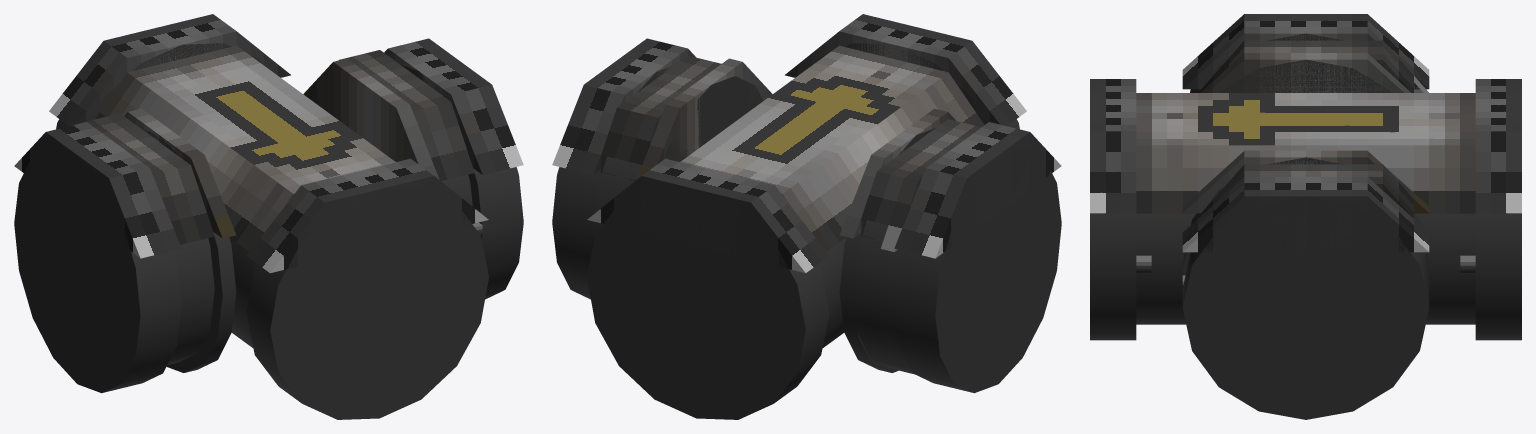
File: CMU3DDisposalXJunctionLoose.glb
3 views of the same model, side by side, from view 1: azimuth 30°, elevation 25°; view 2: azimuth 150°, elevation 25°; view 3: azimuth 270°, elevation 25° (orthographic). The views are drawn at different scales.
Visible parts, largest first — view 1: south construction coupling rim round core, west construction coupling rim round core, main barrel and south arrow source crown 1, main barrel and south arrow source crown 0, south construction coupling rim source crown 1, east construction coupling rim round core, west construction coupling rim source crown 1, west construction coupling rim source crown 2, east branch weld source crown 1, east construction coupling rim source crown 2, north construction coupling rim source crown 1, west branch barrel round core (+18 smaller); view 2: north construction coupling rim round core, west construction coupling rim round core, main barrel and south arrow source crown 1, main barrel and south arrow source crown 0, west construction coupling rim source crown 1, west branch barrel round core, north construction coupling rim source crown 1, east construction coupling rim round core, west construction coupling rim source crown 0, south construction coupling rim source crown 1, east construction coupling rim source crown 0, north construction coupling rim source crown 0 (+18 smaller); view 3: east construction coupling rim round core, main barrel and south arrow source crown 1, main barrel and south arrow source crown 2, main barrel and south arrow round core, east construction coupling rim source crown 1, north construction coupling rim round core, south construction coupling rim round core, west branch weld source crown 1, north construction coupling rim source crown 2, south construction coupling rim source crown 2, west branch weld round core, west construction coupling rim source crown 1 (+17 smaller).
Part boxes in pixels (<box>): south construction coupling rim round core: <box>246,187,488,419</box>; west construction coupling rim round core: <box>14,146,181,393</box>; main barrel and south arrow source crown 1: <box>127,45,395,193</box>; main barrel and south arrow source crown 0: <box>95,72,293,251</box>; south construction coupling rim source crown 1: <box>301,158,434,256</box>; east construction coupling rim round core: <box>400,64,523,299</box>; west construction coupling rim source crown 1: <box>45,122,149,233</box>; west construction coupling rim source crown 2: <box>109,168,181,258</box>; east branch weld source crown 1: <box>333,58,409,161</box>; east construction coupling rim source crown 2: <box>451,85,523,174</box>; north construction coupling rim source crown 1: <box>104,14,236,72</box>; west branch barrel round core: <box>167,238,214,364</box>; north construction coupling rim round core: <box>587,187,829,419</box>; west construction coupling rim round core: <box>894,146,1061,393</box>; main barrel and south arrow source crown 1: <box>680,45,948,193</box>; main barrel and south arrow source crown 0: <box>782,72,984,251</box>; west construction coupling rim source crown 1: <box>926,122,1030,231</box>; west branch barrel round core: <box>853,220,913,373</box>; north construction coupling rim source crown 1: <box>641,158,774,258</box>; east construction coupling rim round core: <box>552,65,673,299</box>; west construction coupling rim source crown 0: <box>894,168,966,258</box>; south construction coupling rim source crown 1: <box>839,14,971,72</box>; east construction coupling rim source crown 0: <box>552,85,624,174</box>; north construction coupling rim source crown 0: <box>751,185,829,273</box>; east construction coupling rim round core: <box>1182,196,1429,419</box>; main barrel and south arrow source crown 1: <box>1136,93,1475,145</box>; main barrel and south arrow source crown 2: <box>1136,145,1475,213</box>; main barrel and south arrow round core: <box>1136,213,1475,324</box>; east construction coupling rim source crown 1: <box>1244,177,1367,252</box>; north construction coupling rim round core: <box>1475,213,1521,340</box>; south construction coupling rim round core: <box>1090,213,1136,340</box>; west branch weld source crown 1: <box>1244,53,1367,92</box>; north construction coupling rim source crown 2: <box>1475,131,1521,213</box>; south construction coupling rim source crown 2: <box>1090,131,1136,213</box>; west branch weld round core: <box>1219,59,1392,92</box>; west construction coupling rim source crown 1: <box>1244,14,1367,40</box>.
Bounding box in the file's own units: 0.875 × 0.5 × 0.875.
Materials: 26 (25 with a texture image).
